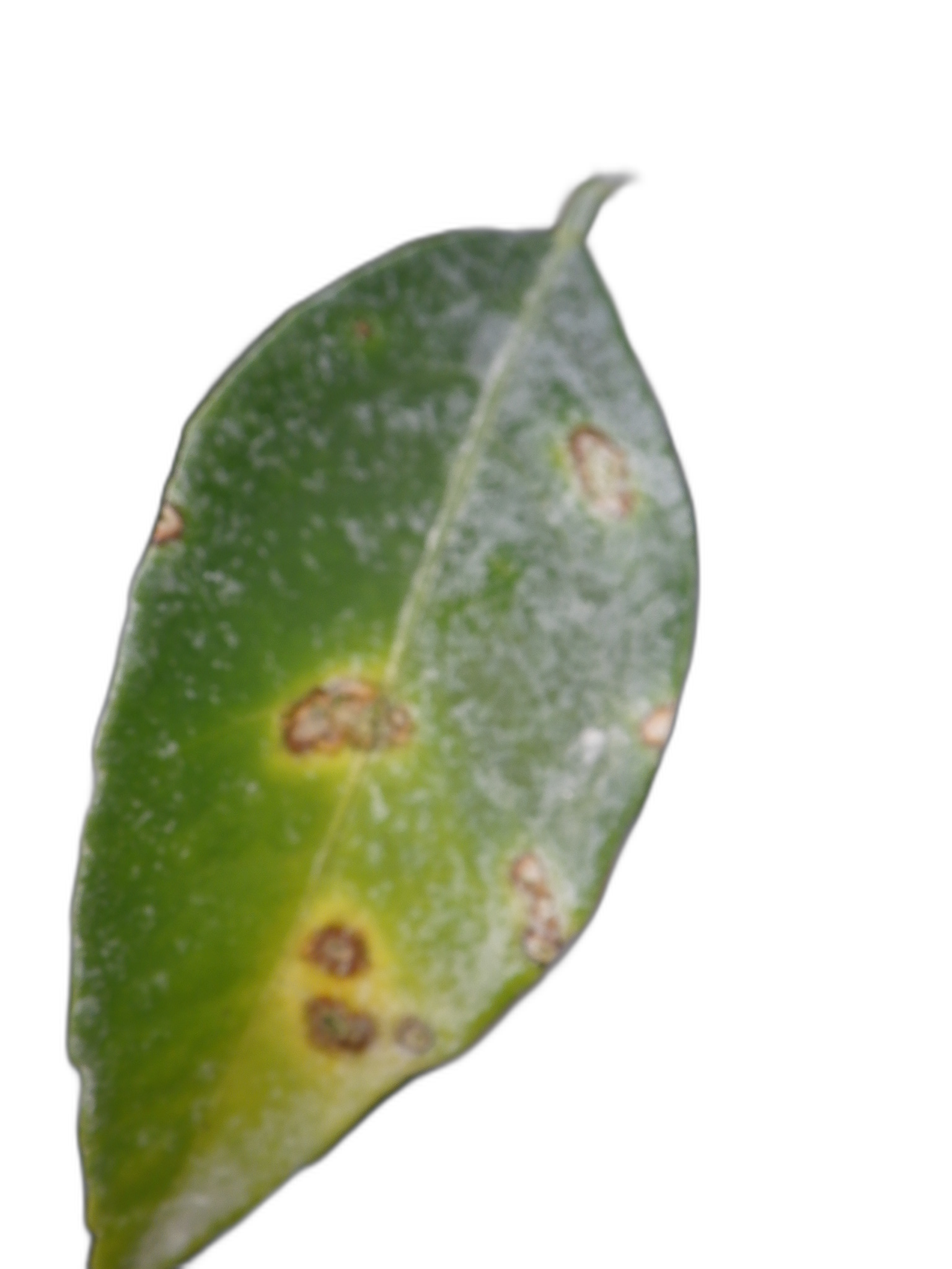Canker: (281, 676, 414, 756), (508, 851, 567, 967), (569, 424, 635, 519), (301, 993, 382, 1058), (302, 920, 375, 981), (392, 1013, 436, 1058), (148, 498, 186, 548), (643, 704, 674, 746)
